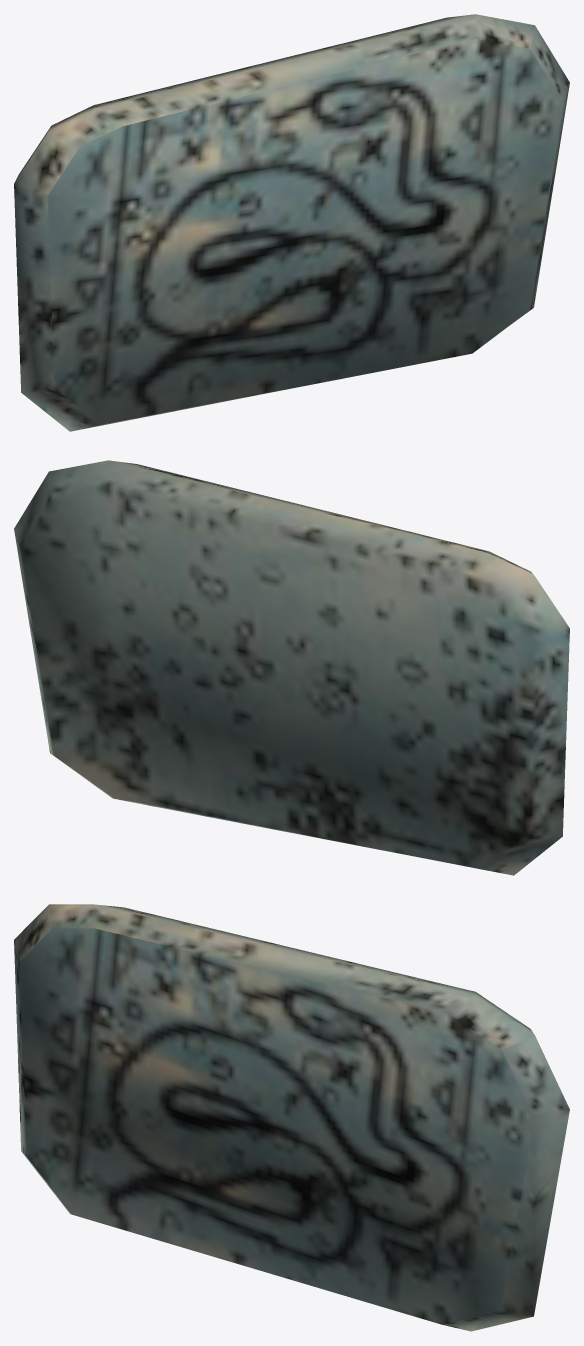
The model's file is Clay_tablet_Snake.fbx.
3 renders of one model, top to bottom at view 1: azimuth 30°, elevation 25°; view 2: azimuth 150°, elevation 25°; view 3: azimuth 330°, elevation 25°, orthographic.
Parts seen in each view (by area): view 1: stone.001; view 2: stone.001; view 3: stone.001.
Boxes of the visible parts, x1,y1,x2,y2 form: stone.001: (14, 14, 569, 431); stone.001: (14, 460, 569, 875); stone.001: (14, 904, 569, 1331).
Bounding box in the file's own units: 536 × 311 × 49.96.
Materials: 1 (1 with a texture image).
